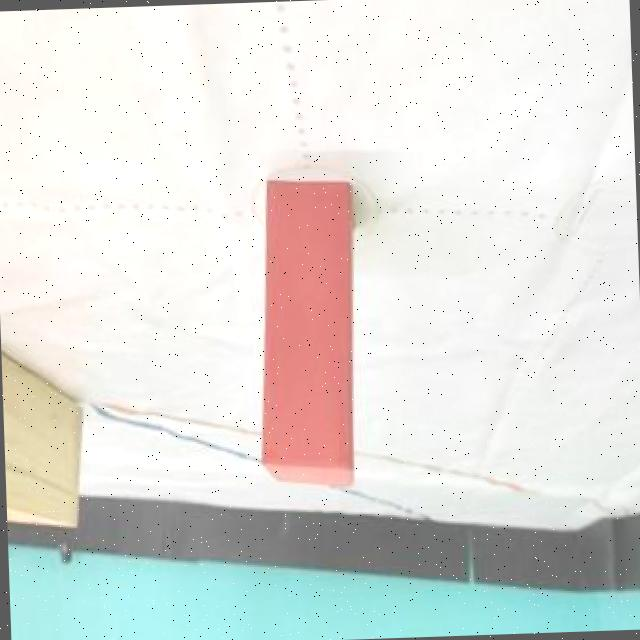redbox: (252, 178, 358, 490)
